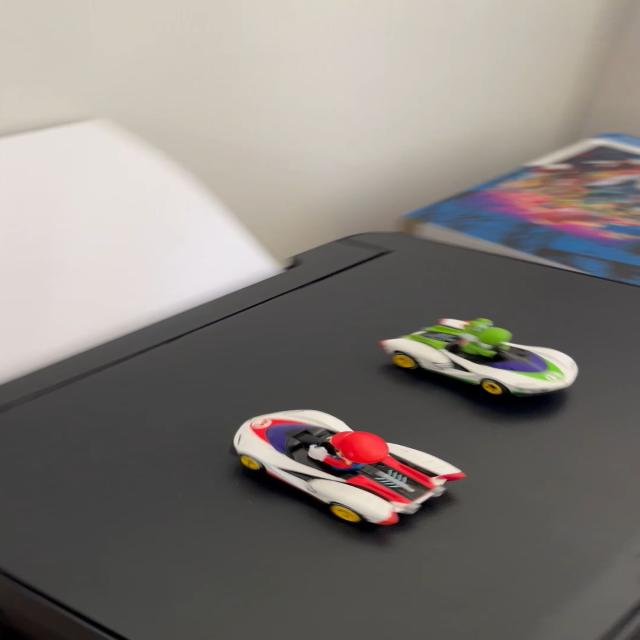mario: (220, 412, 478, 534)
yoshi: (370, 311, 595, 403)
